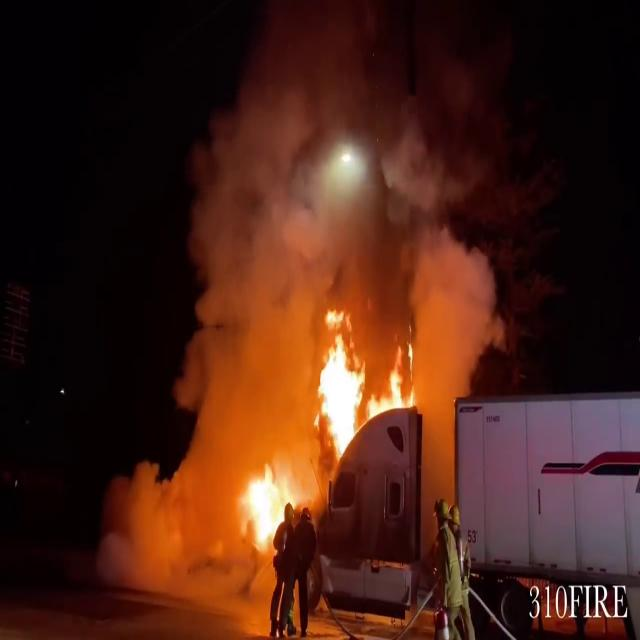Fire: (306, 318, 422, 460), (232, 454, 301, 564)
Smoke: (168, 0, 516, 389)
